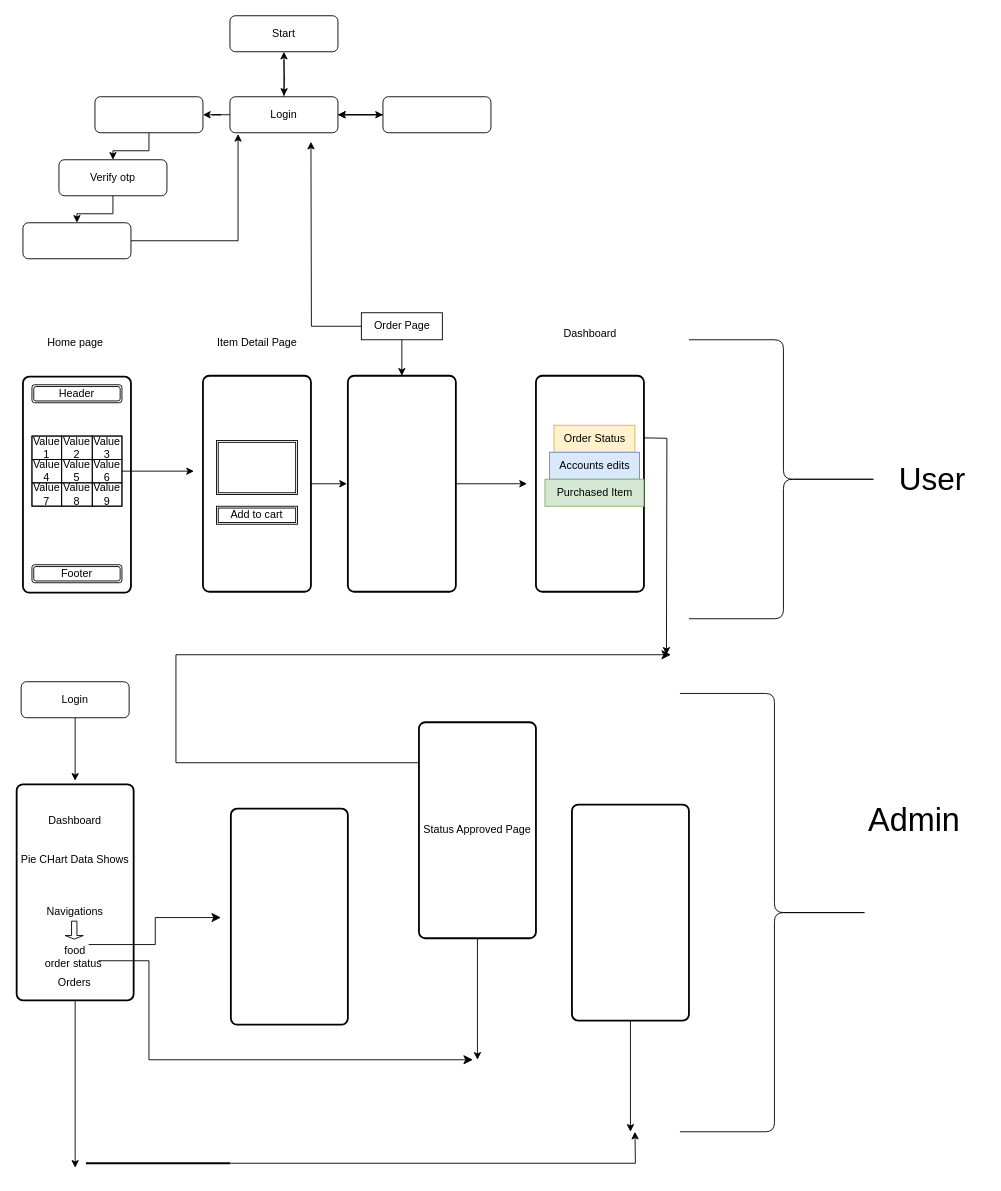
The diagram is 1001 pixels wide and 1191 high, and some of its shapes have lost their labels. The centre of each missing label's shape, as x and y in pixels:
Detail + Images: the point at 256,467
Food Crud Table: the point at 289,916
Forget password: the point at 148,114
Forms Fields: the point at 401,483
Get All Oders: the point at 630,912
Register: the point at 436,114
set new password: the point at 76,240
